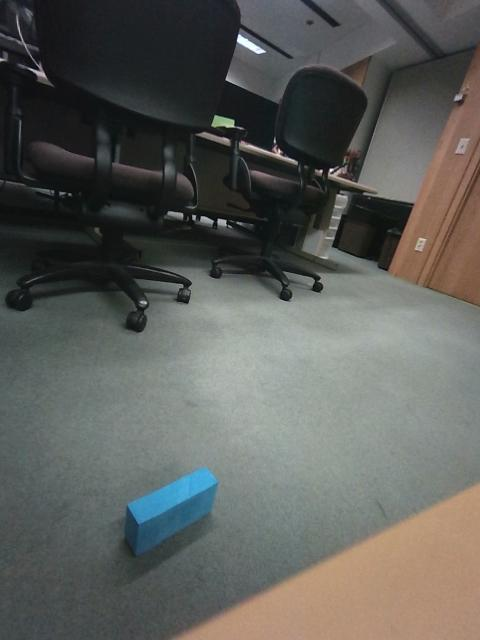block: (119, 244, 157, 274)
